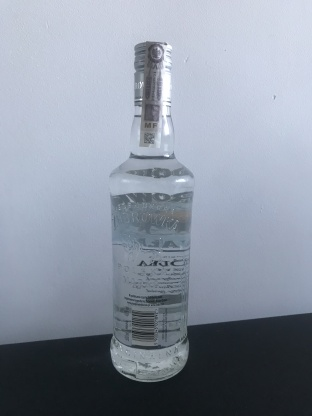nakretka: (131, 36, 173, 109)
